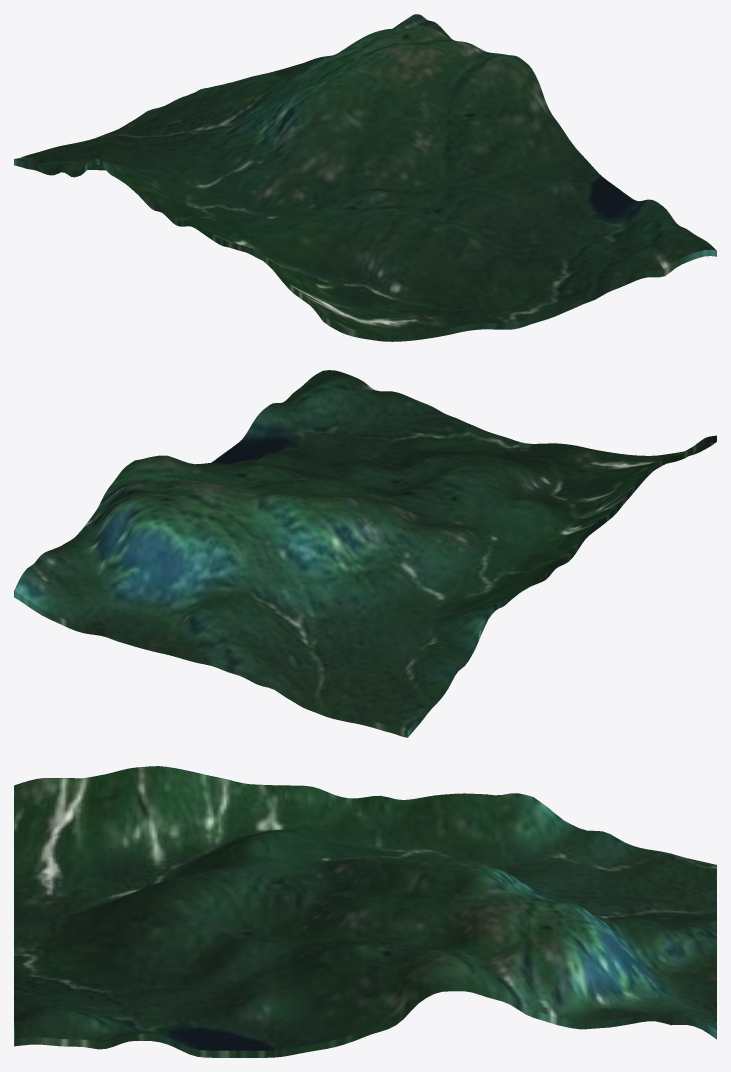
The picture shows the model from 3 angles, top to bottom: view 1: azimuth 30°, elevation 25°; view 2: azimuth 150°, elevation 25°; view 3: azimuth 270°, elevation 25°; orthographic projection. The views are drawn at different scales.
Parts seen in each view (by area): view 1: tile; view 2: tile; view 3: tile.
Part boxes in pixels (bbox=[...]): tile: bbox=[14, 14, 716, 341]; tile: bbox=[14, 370, 716, 737]; tile: bbox=[14, 766, 716, 1057].
Size of the model in its own units: 2025 by 547 by 2752.
1 material, 1 textured.
